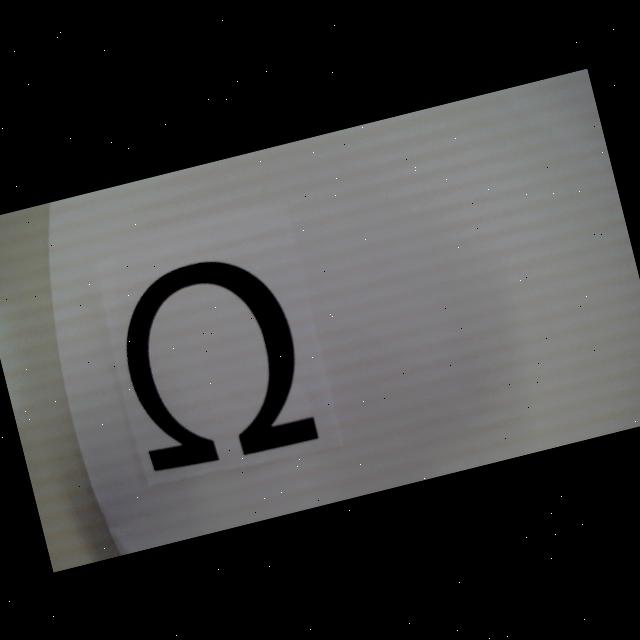OMEGA: (106, 243, 320, 479)
